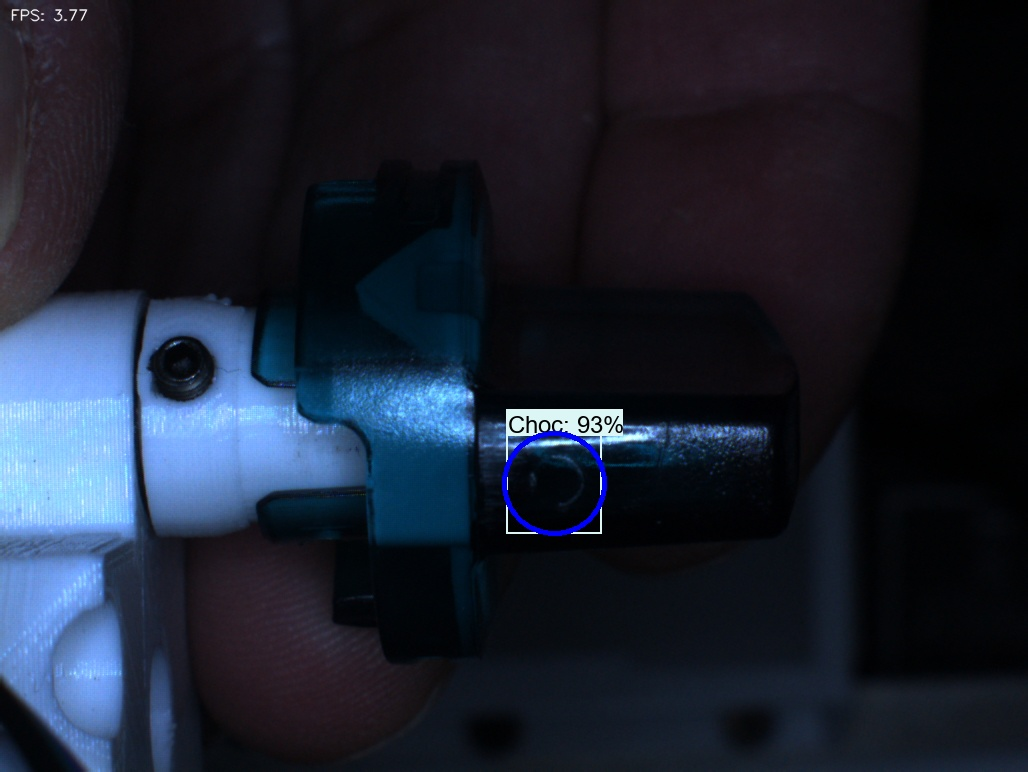DentOk: (336, 246, 411, 325)
